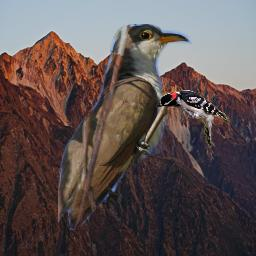Cuckoo: (58, 24, 221, 230)
Woodpecker: (156, 89, 229, 149)
